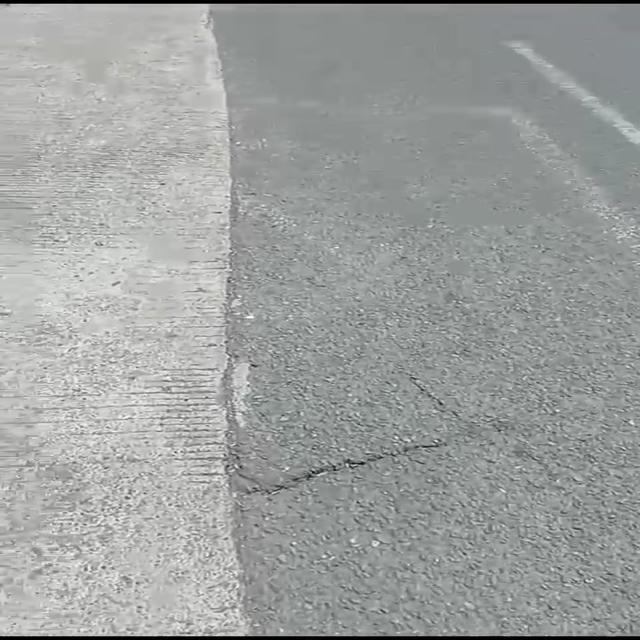Sambungan: (0, 0, 251, 638)
